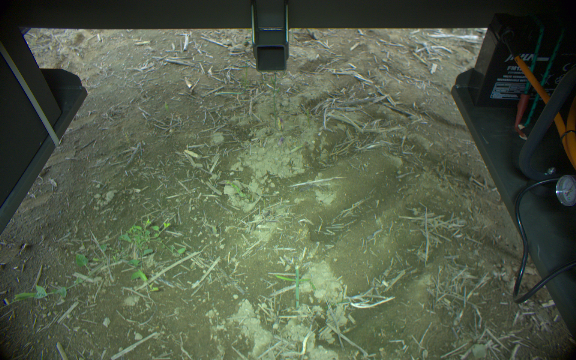aspa: (291, 265, 302, 310)
